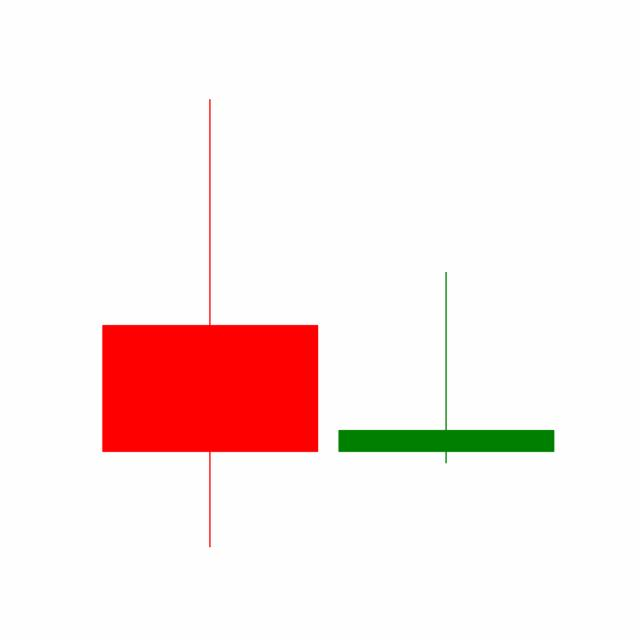Gravestone Doji: (327, 269, 565, 465)
